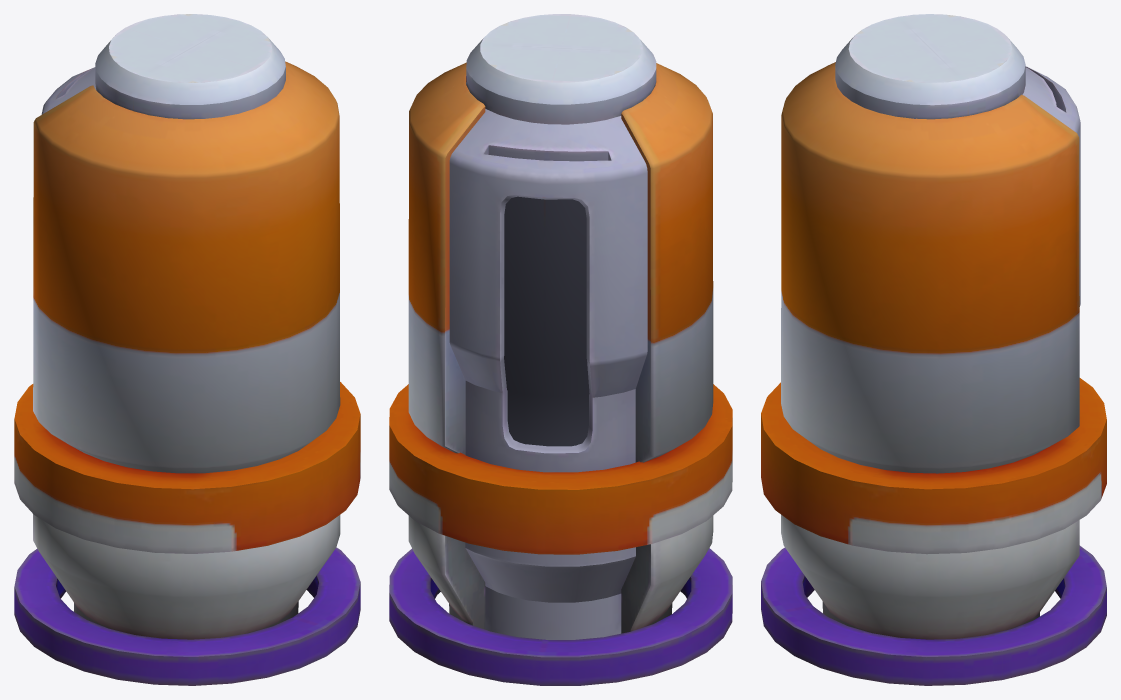
File: pref_sm_choujiangjiemian_mx02_lv3.fbx
3 renders of one model, left to right at view 1: azimuth 30°, elevation 25°; view 2: azimuth 150°, elevation 25°; view 3: azimuth 270°, elevation 25°, orthographic.
Parts seen in each view (by area): view 1: sm_choujiangjiemian_mx02_lv3; view 2: sm_choujiangjiemian_mx02_lv3; view 3: sm_choujiangjiemian_mx02_lv3.
Part boxes in pixels (left/top/right/bottom): sm_choujiangjiemian_mx02_lv3: left=14, top=14, right=360, bottom=685; sm_choujiangjiemian_mx02_lv3: left=389, top=14, right=732, bottom=685; sm_choujiangjiemian_mx02_lv3: left=761, top=14, right=1106, bottom=685.
Size of the model in its own units: 1.1 by 2.06 by 1.1.
Materials: 1 (1 with a texture image).
